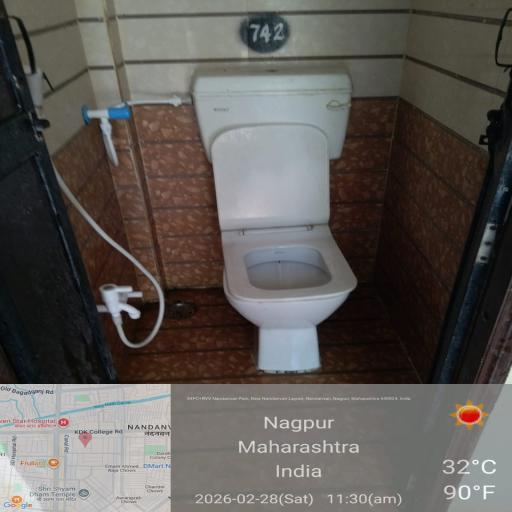clean_floor: (30, 12, 198, 470), (229, 381, 448, 512)
clean_western: (163, 38, 416, 382)
